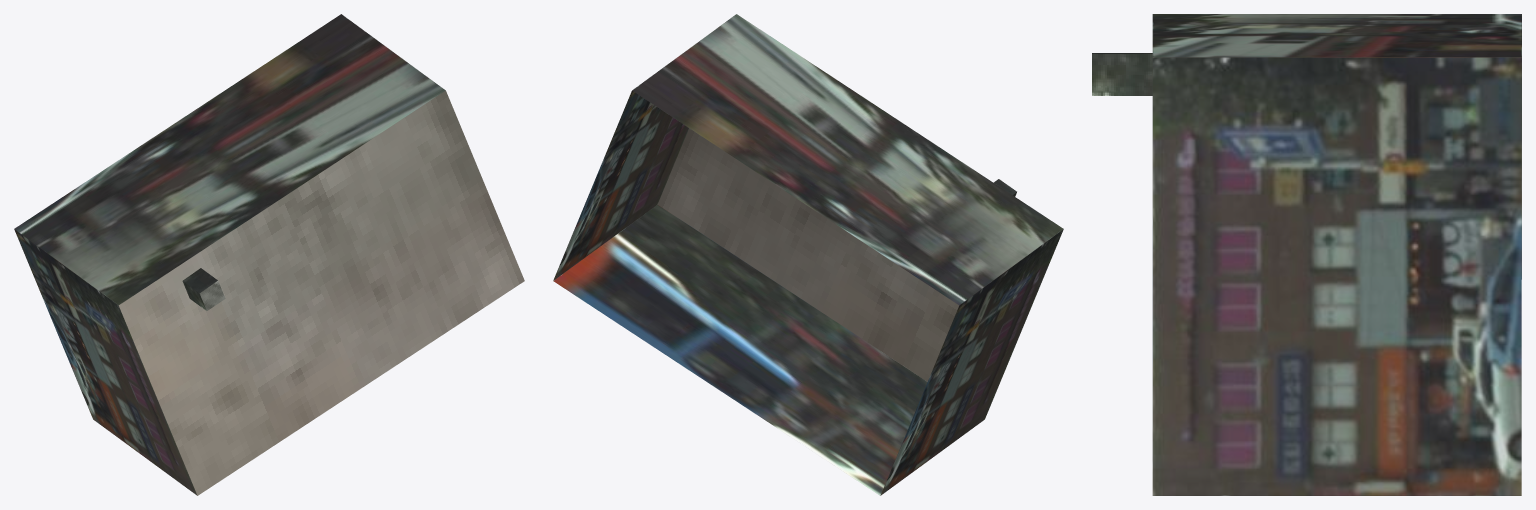
The picture shows the model from 3 angles, left to right: view 1: azimuth 30°, elevation 25°; view 2: azimuth 150°, elevation 25°; view 3: azimuth 270°, elevation 25°; orthographic projection. The views are drawn at different scales.
Parts seen in each view (by area): view 1: IndexedFaceSet__3_0, IndexedFaceSet__4_0, IndexedFaceSet; view 2: IndexedFaceSet__4_0, IndexedFaceSet__2_0, IndexedFaceSet__3_0, IndexedFaceSet, IndexedFaceSet__1_0; view 3: IndexedFaceSet__1_0, IndexedFaceSet__4_0, IndexedFaceSet__6_0.
Part boxes in pixels (x1,y1,x2,y2): IndexedFaceSet__3_0: (118, 90, 524, 495); IndexedFaceSet__4_0: (14, 14, 445, 305); IndexedFaceSet: (14, 229, 197, 495); IndexedFaceSet__4_0: (632, 14, 1063, 305); IndexedFaceSet__2_0: (553, 204, 927, 495); IndexedFaceSet__3_0: (657, 128, 959, 381); IndexedFaceSet: (880, 229, 1063, 495); IndexedFaceSet__1_0: (553, 91, 688, 280); IndexedFaceSet__1_0: (1152, 57, 1521, 495); IndexedFaceSet__4_0: (1152, 14, 1521, 57); IndexedFaceSet__6_0: (1092, 54, 1152, 95).
Bounding box in the file's own units: 25.08 × 20.34 × 13.02.
Materials: 8 (8 with a texture image).
